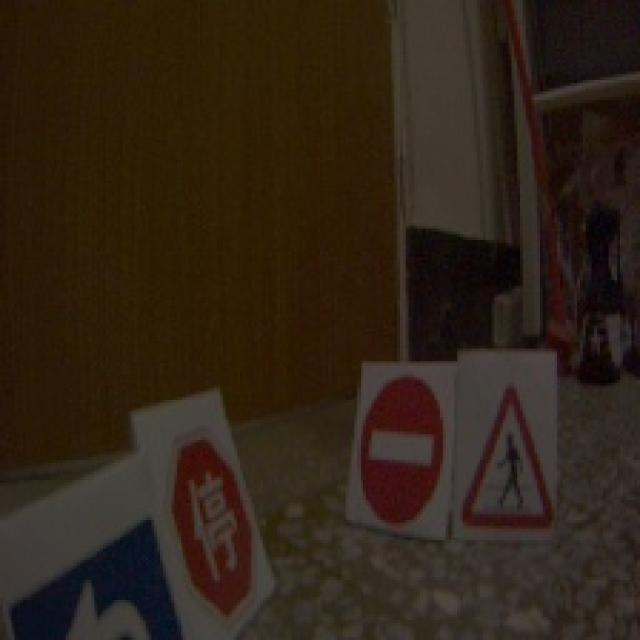DoNotEnterSign: (360, 372, 446, 527)
